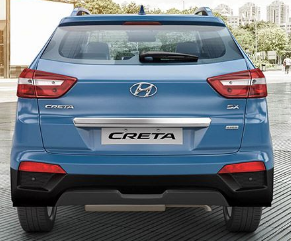car: (10, 8, 273, 235)
